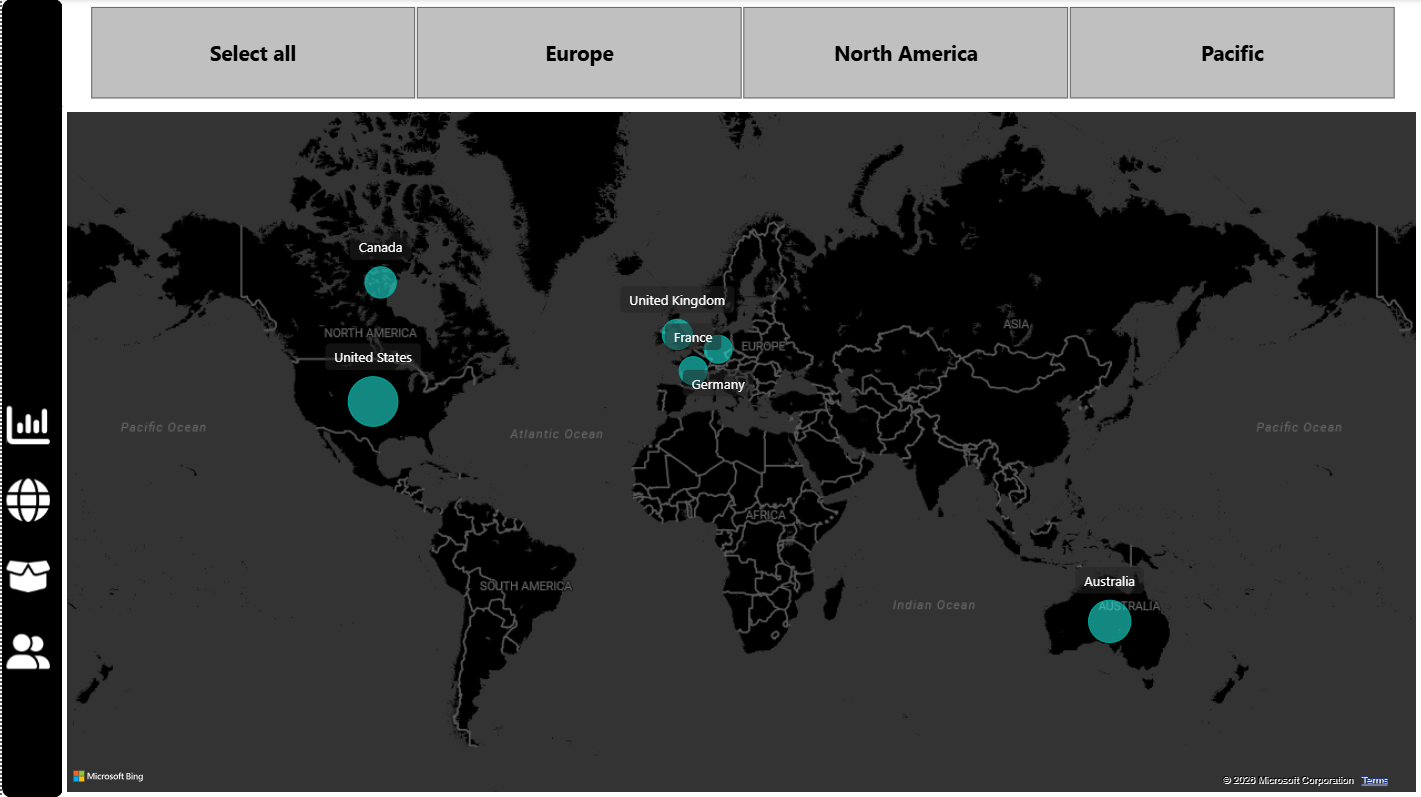

What the dashboard file says about the page in this screenshot:
{"tool":"powerbi","page":{"name":"Map","canvas":[1280,720],"ordinal":1},"visuals":[{"type":"shape","box":[0,0,55,720.3],"z":0},{"type":"map","fields":{"Category":["Territory Lookup.Country"],"Size":["Measure Table.Total Orders"]},"box":[54.7,96.5,1225.6,623.3],"z":1000},{"type":"slicer","fields":{"Values":["Territory Lookup.Continent"]},"box":[54.7,0,1225.6,96.5],"z":2000},{"type":"actionButton","box":[0,360.7,54.7,47.3],"z":3000},{"type":"actionButton","box":[0,428.8,54.7,47.3],"z":4000},{"type":"actionButton","box":[0,496.8,54.7,47.3],"z":5000},{"type":"actionButton","box":[0,564.8,54.7,47.3],"z":6000}]}

Visuals, with their boxes in screenshot pixels (x1, y1, x2, y2):
shape: Rect(0, 4, 60, 789)
map - Territory Lookup.Country x Measure Table.Total Orders: Rect(60, 109, 1395, 788)
slicer - Territory Lookup.Continent: Rect(60, 4, 1395, 109)
actionButton: Rect(0, 397, 60, 448)
actionButton: Rect(0, 471, 60, 523)
actionButton: Rect(0, 545, 60, 597)
actionButton: Rect(0, 619, 60, 671)
